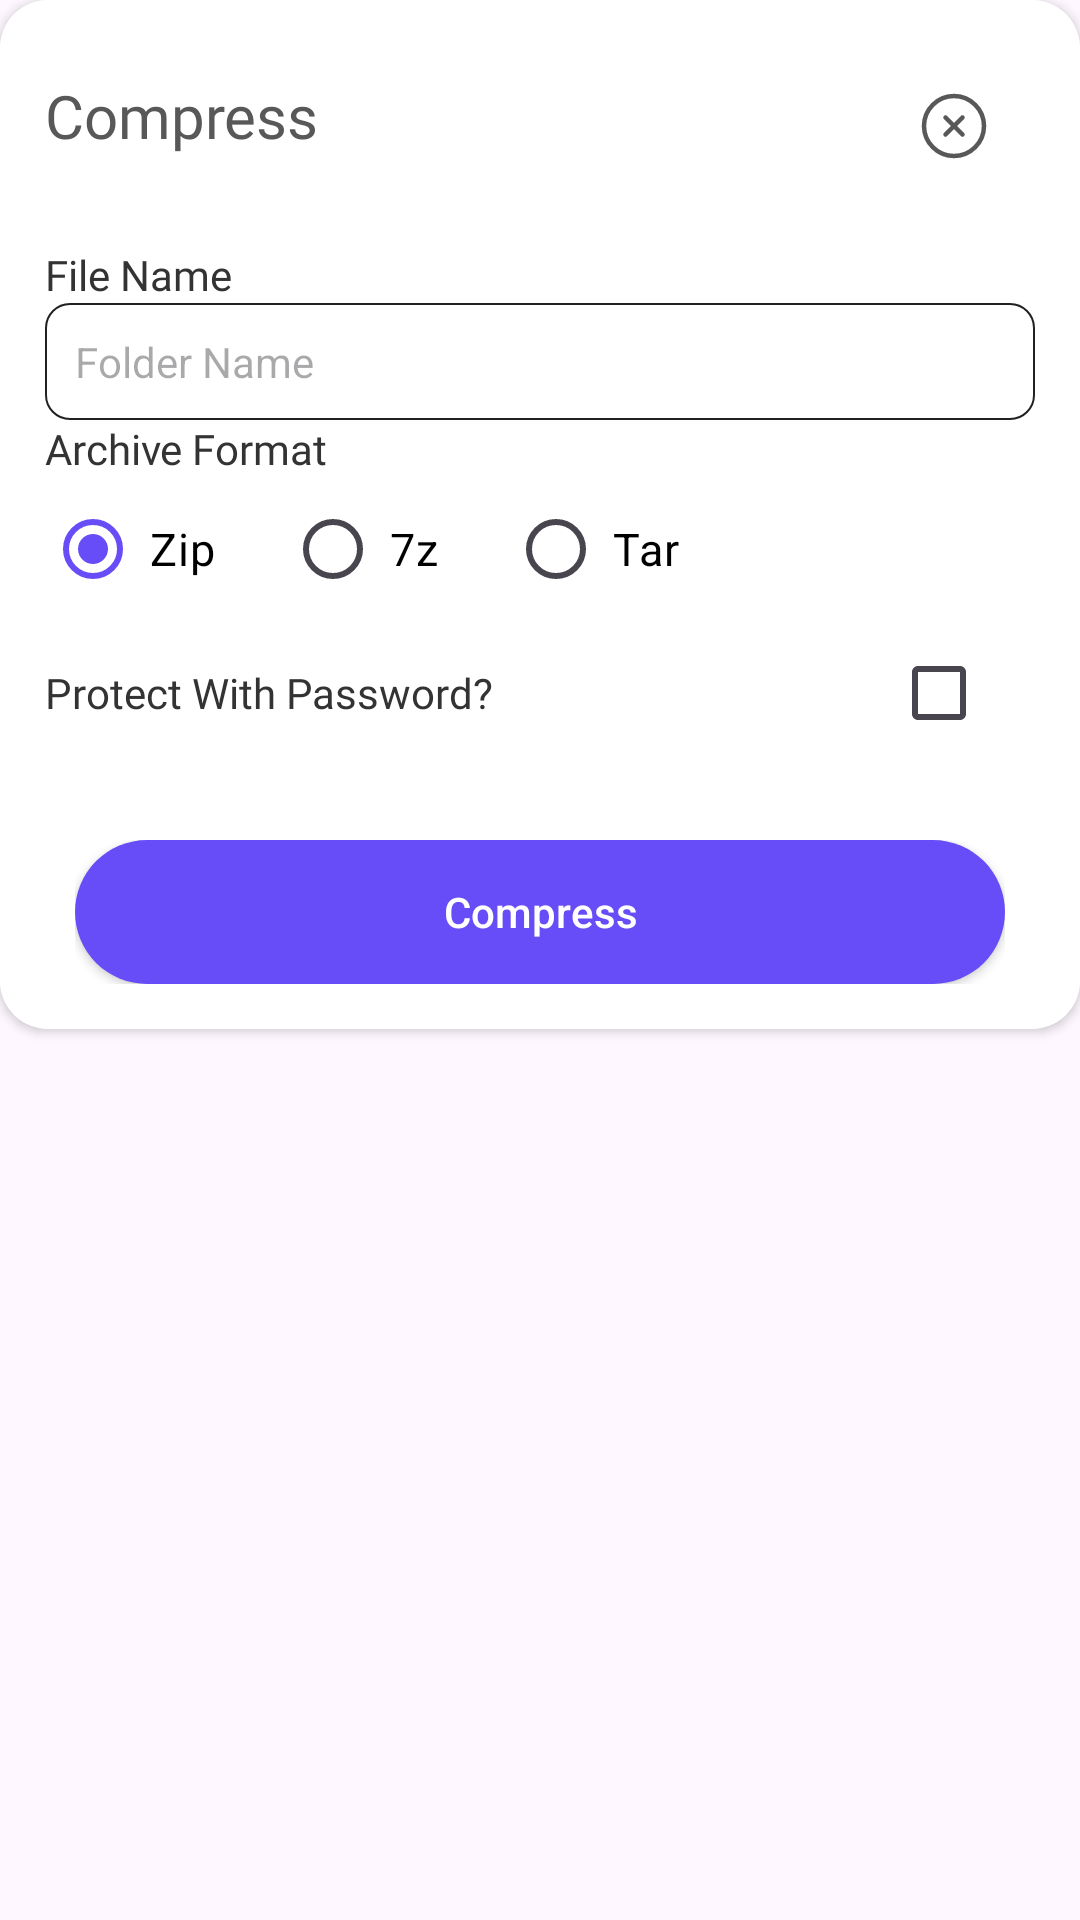

Locate icon controls on the screen. Image size 1080w x 1920h, boxes as (x1, y1, x2, y2).
close circle: (921, 93, 987, 159)
